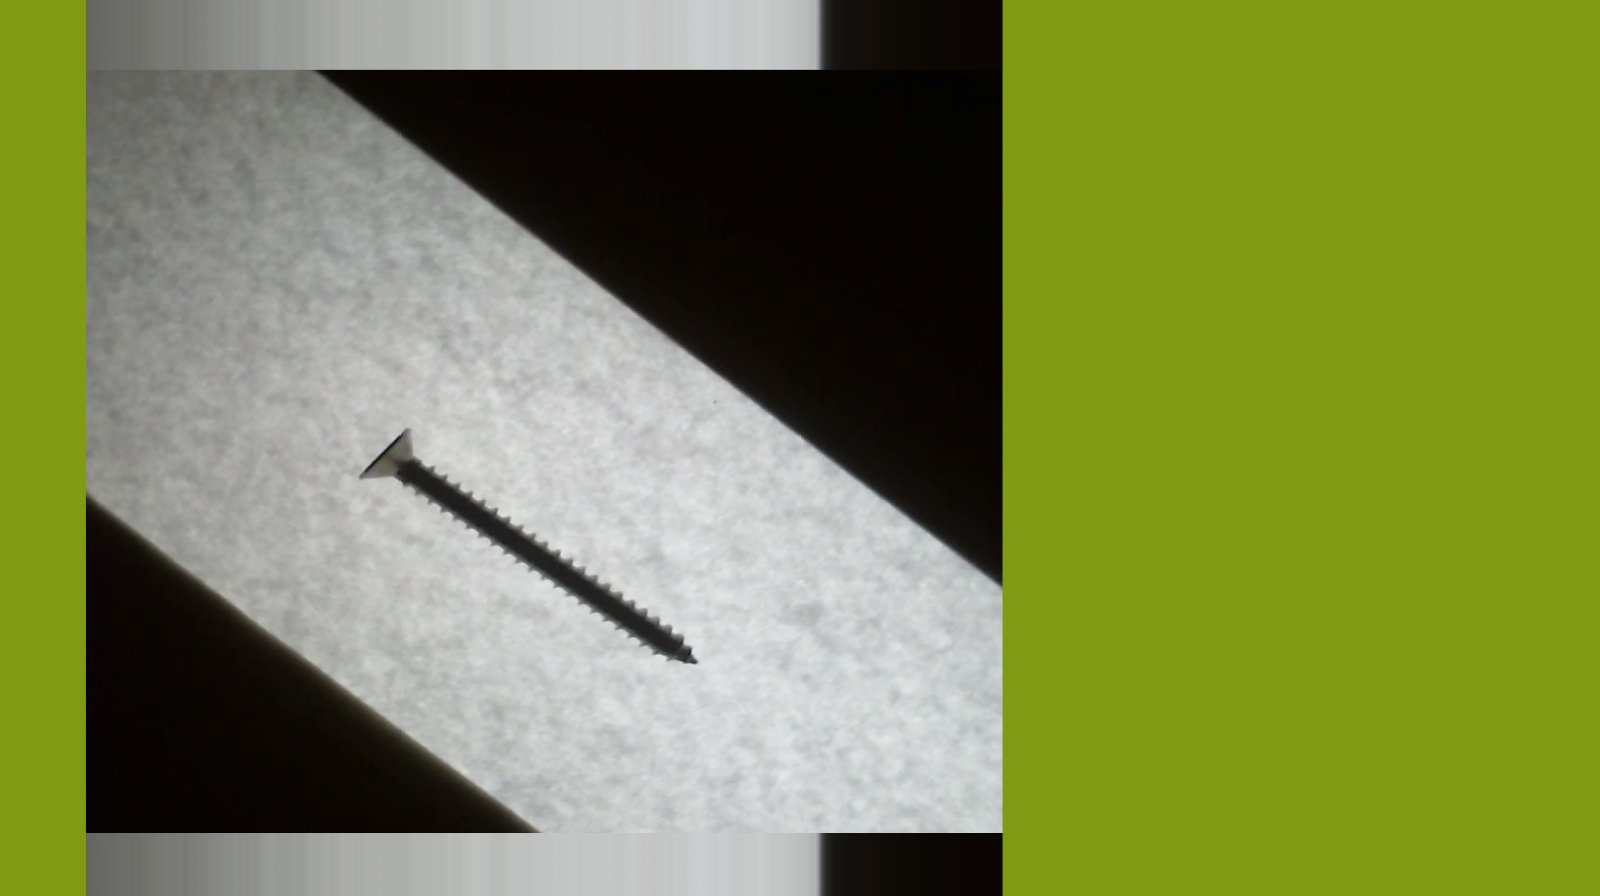S002: (357, 423, 702, 673)
